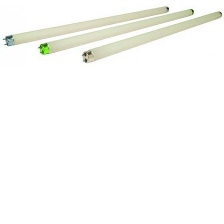light_bulb: (78, 8, 223, 65), (34, 6, 196, 56), (2, 4, 172, 48)
